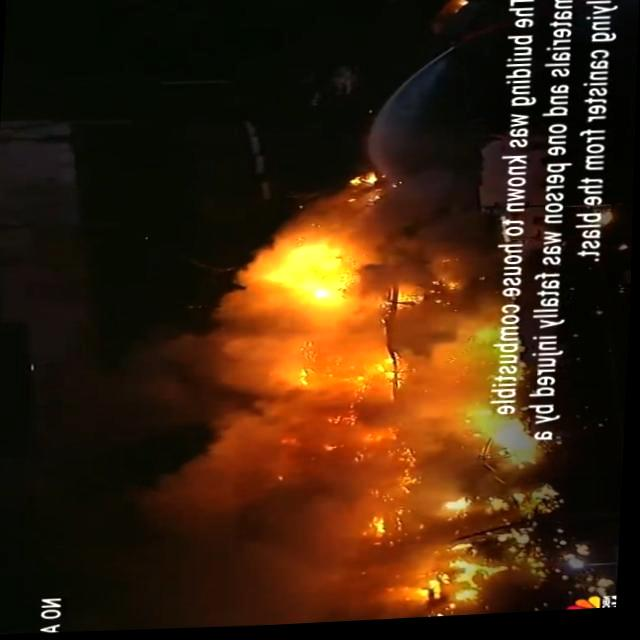fire: (294, 348, 542, 504), (250, 252, 378, 342), (380, 536, 500, 624), (414, 274, 498, 350)
